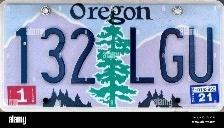1: (125, 25, 156, 84), (15, 25, 36, 86)
2: (69, 25, 99, 85)
3: (39, 26, 68, 84)
G: (157, 25, 186, 85)
U: (186, 26, 215, 84)
